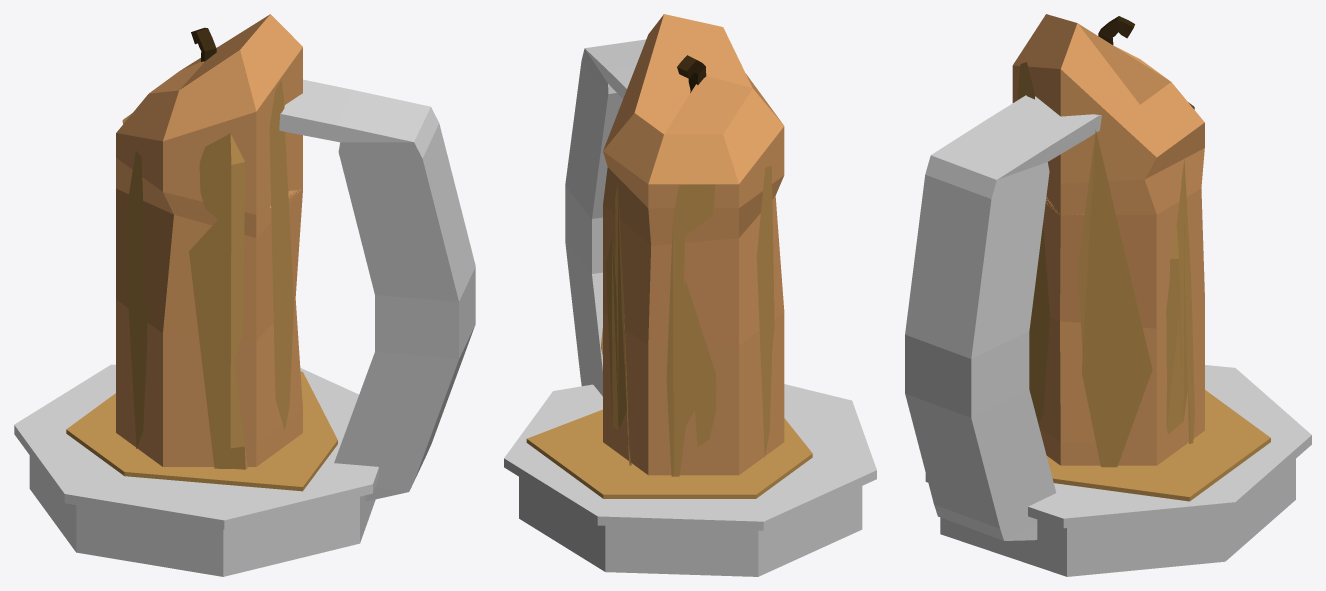
The model's file is RemadeCandleMelted(A).fbx.
3 renders of one model, left to right at view 1: azimuth 30°, elevation 25°; view 2: azimuth 150°, elevation 25°; view 3: azimuth 270°, elevation 25°, orthographic. The views are drawn at different scales.
Parts seen in each view (by area): view 1: Candle Remade, Handle, Dish, Melted wax, Melted wax Base; view 2: Candle Remade, Dish, Melted wax, Handle, Melted wax Base, Wick; view 3: Handle, Candle Remade, Dish, Melted wax, Melted wax Base, Wick.
Part boxes in pixels (bbox=[...]): Candle Remade: bbox=[116, 14, 302, 466]; Handle: bbox=[279, 79, 475, 501]; Dish: bbox=[14, 364, 378, 576]; Melted wax: bbox=[122, 80, 293, 469]; Melted wax Base: bbox=[66, 371, 337, 491]; Candle Remade: bbox=[603, 14, 784, 475]; Dish: bbox=[504, 384, 876, 576]; Melted wax: bbox=[601, 165, 774, 476]; Handle: bbox=[565, 39, 646, 396]; Melted wax Base: bbox=[526, 409, 812, 498]; Wick: bbox=[677, 55, 706, 92]; Handle: bbox=[905, 95, 1101, 540]; Candle Remade: bbox=[1012, 14, 1204, 465]; Dish: bbox=[925, 365, 1311, 576]; Melted wax: bbox=[1017, 62, 1194, 467]; Melted wax Base: bbox=[1047, 390, 1270, 501]; Wick: bbox=[1098, 16, 1134, 44].
Bounding box in the file's own units: 232 × 295 × 218.
